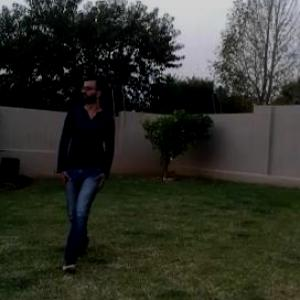follow: (50, 67, 119, 269)
